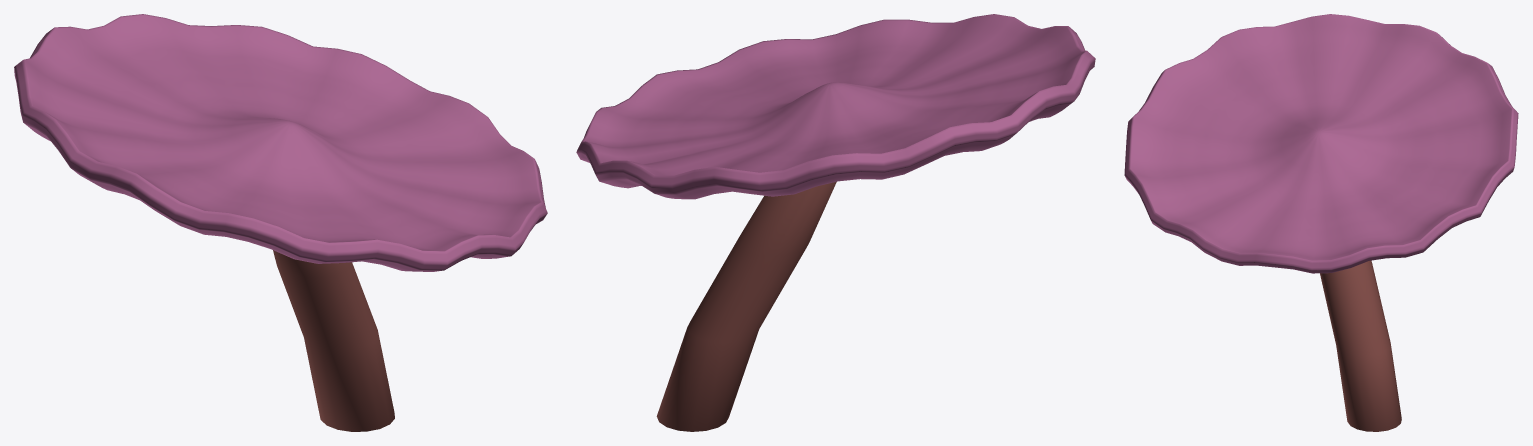
File: mushroomFlower02_001.fbx
3 renders of one model, left to right at view 1: azimuth 30°, elevation 25°; view 2: azimuth 150°, elevation 25°; view 3: azimuth 270°, elevation 25°, orthographic. The views are drawn at different scales.
Visible parts, largest first — view 1: Cylinder.002; view 2: Cylinder.002; view 3: Cylinder.002.
Part boxes in pixels (x1,y1,x2,y2): Cylinder.002: [14, 14, 547, 431]; Cylinder.002: [576, 14, 1095, 431]; Cylinder.002: [1124, 14, 1518, 431].
Bounding box in the file's own units: 86.85 × 72.07 × 89.03.
